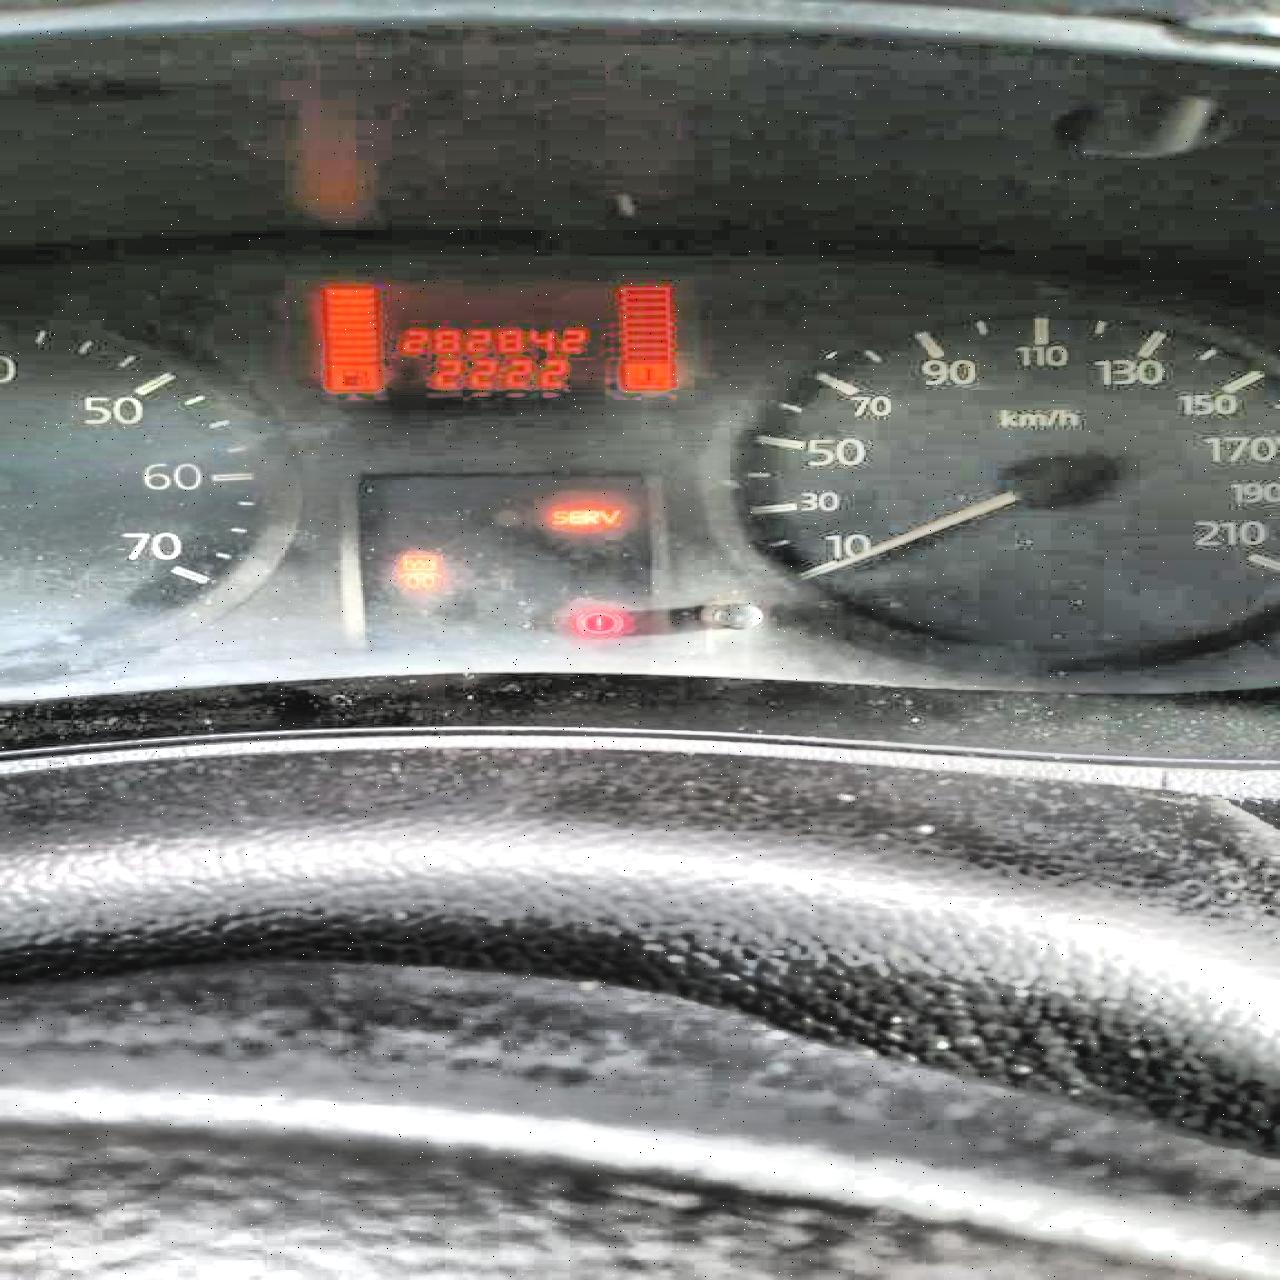2: (430, 358, 463, 388), (503, 356, 532, 388), (537, 356, 565, 389), (465, 358, 493, 388), (557, 327, 586, 353), (399, 328, 428, 353), (463, 328, 492, 352)
4: (525, 327, 554, 352)
8: (493, 327, 523, 353), (429, 328, 458, 353)
X: (495, 365, 501, 380)
odometer: (297, 274, 688, 397)
